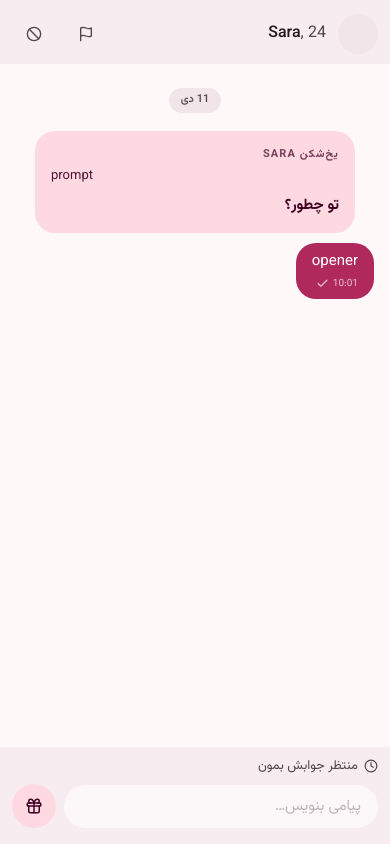
Scenario: Chat — reply limit › while locked, no icebreaker answer or reply action, but editing works
Expected: the text "منتظر جوابش بمون" is shown, left=258, top=756, right=378, bottom=776
Expected: the text box with placeholder "پیامی بنویس…" is disabled, left=64, top=785, right=378, bottom=828
Right-click the text "opener" at (335, 262), box left=312, top=251, right=358, bottom=274
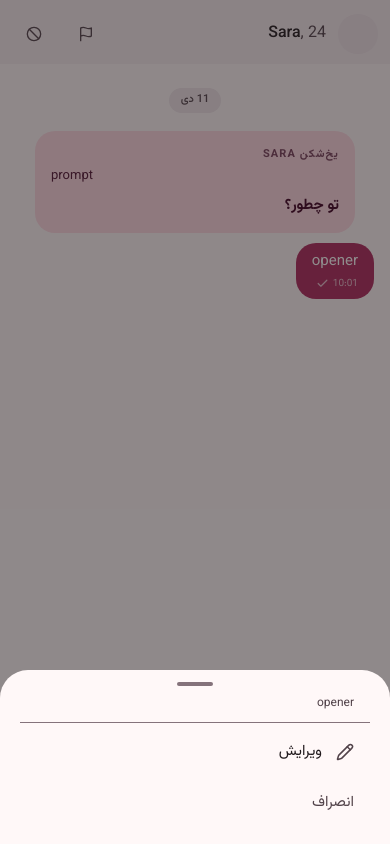
Click the menu item "ویرایش" at (300, 752), box left=20, top=727, right=370, bottom=778
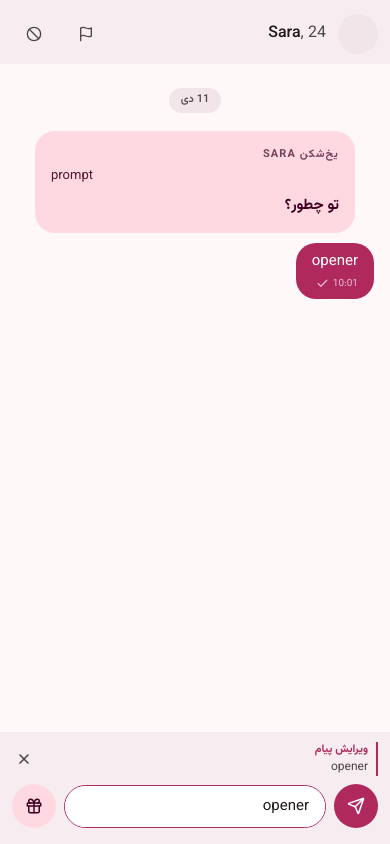
Result: the text box with placeholder "پیامی بنویس…" is enabled
Replace the text in the text box with placeholder "پیامی بنویس…" with "fixed" at (195, 806), box left=64, top=785, right=326, bottom=828
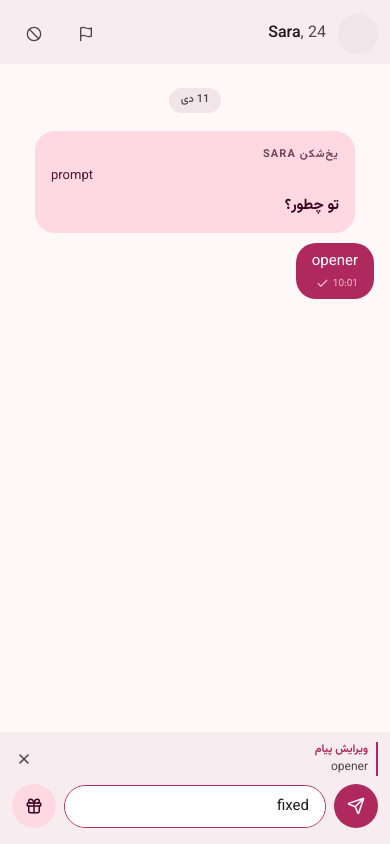
Click the button named "ذخیره" at (356, 806), box left=334, top=784, right=378, bottom=828
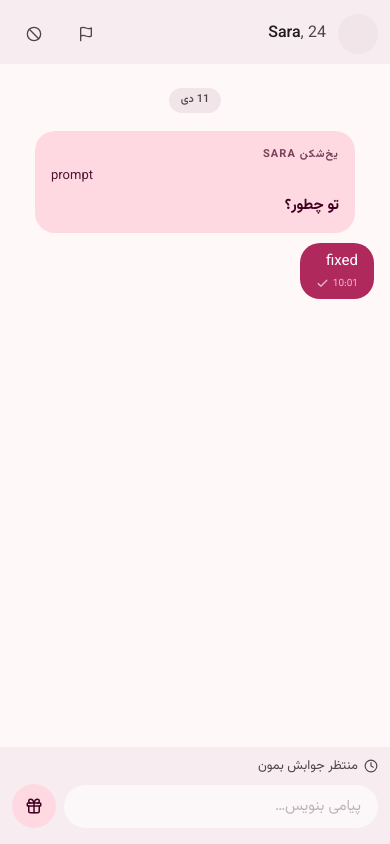
Result: the text "fixed" is shown at left=326, top=250, right=358, bottom=273
Result: the text "منتظر جوابش بمون" is shown at left=258, top=756, right=378, bottom=776
Result: the text box with placeholder "پیامی بنویس…" is disabled at left=64, top=785, right=378, bottom=828
